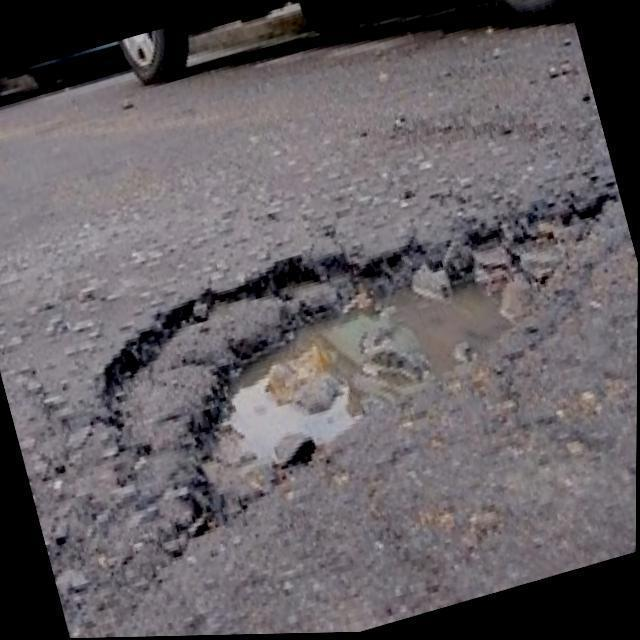Pothole: (84, 183, 618, 542)
